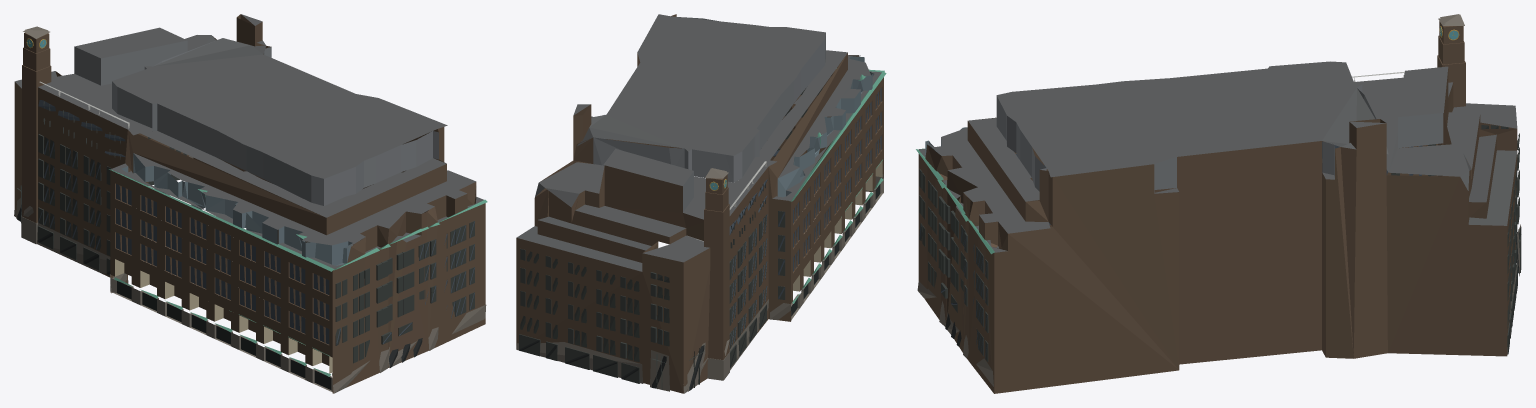
Rendered from utrechtsestraat-9-17.lod1.glb.
3 views of the same model, side by side, from view 1: azimuth 30°, elevation 25°; view 2: azimuth 150°, elevation 25°; view 3: azimuth 270°, elevation 25° (orthographic). The views are drawn at different scales.
Visible parts, largest first — view 1: utrechtsestraat-9-17; view 2: utrechtsestraat-9-17; view 3: utrechtsestraat-9-17.
Boxes of the visible parts, bbox=[...] form: utrechtsestraat-9-17: bbox=[14, 14, 487, 393]; utrechtsestraat-9-17: bbox=[516, 14, 886, 393]; utrechtsestraat-9-17: bbox=[916, 14, 1521, 393].
Size of the model in its own units: 53.14 by 40.49 by 93.88.
